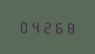eight: (62, 20, 72, 34)
four: (29, 19, 39, 33)
six: (51, 20, 61, 34)
two: (40, 19, 50, 34)
zero: (18, 19, 28, 33)
